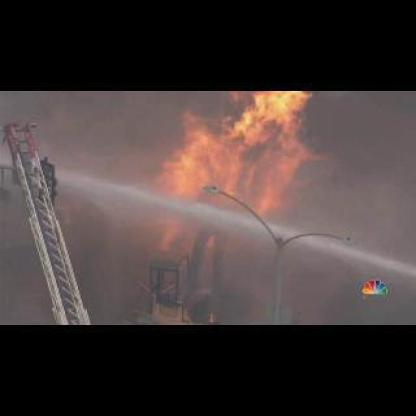fire: (163, 91, 323, 218)
